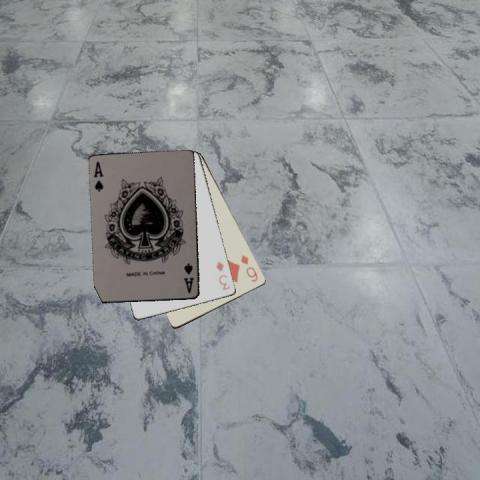3d: (213, 259, 232, 291)
6d: (238, 252, 259, 283)
As: (182, 260, 196, 295), (90, 159, 104, 193)
